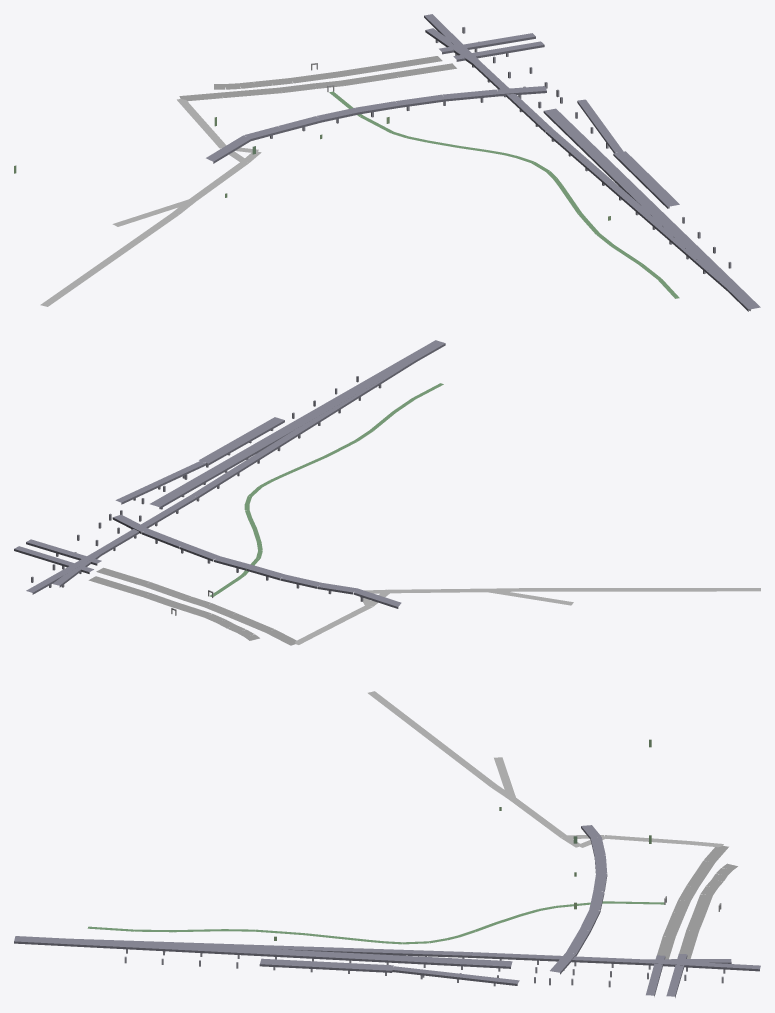
The picture shows the model from 3 angles, top to bottom: view 1: azimuth 30°, elevation 25°; view 2: azimuth 150°, elevation 25°; view 3: azimuth 270°, elevation 25°; orthographic projection. The views are drawn at different scales.
Size of the model in its own units: 581 by 11.39 by 598.
